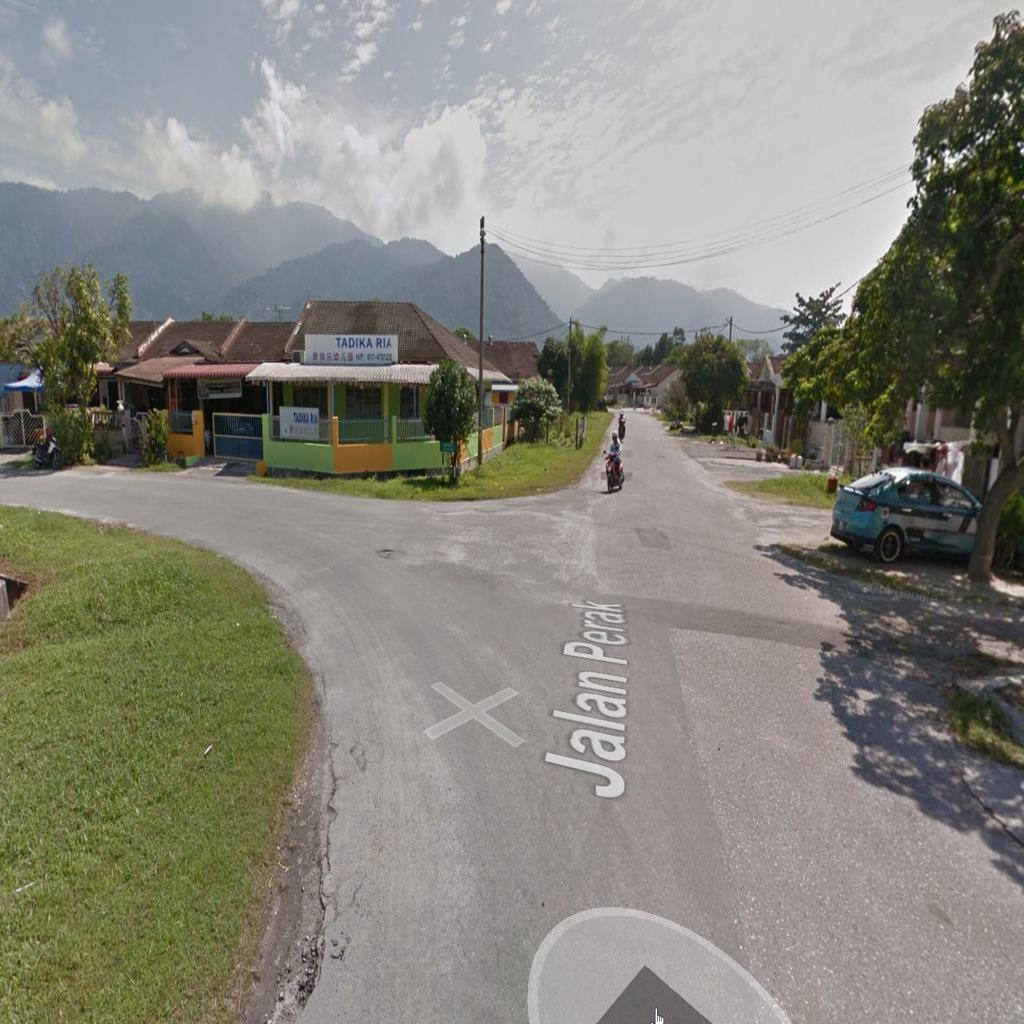Junction: (103, 442, 588, 815)
